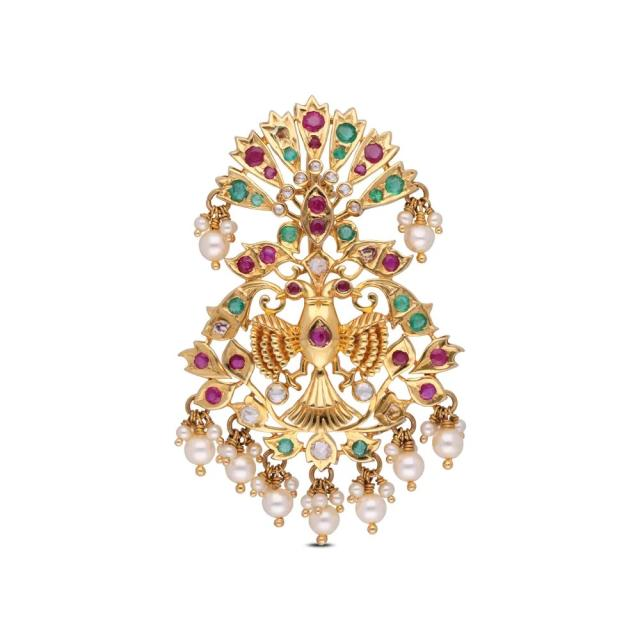missing gem: (271, 124, 290, 140), (211, 319, 230, 335), (360, 247, 376, 261), (386, 405, 401, 419)
